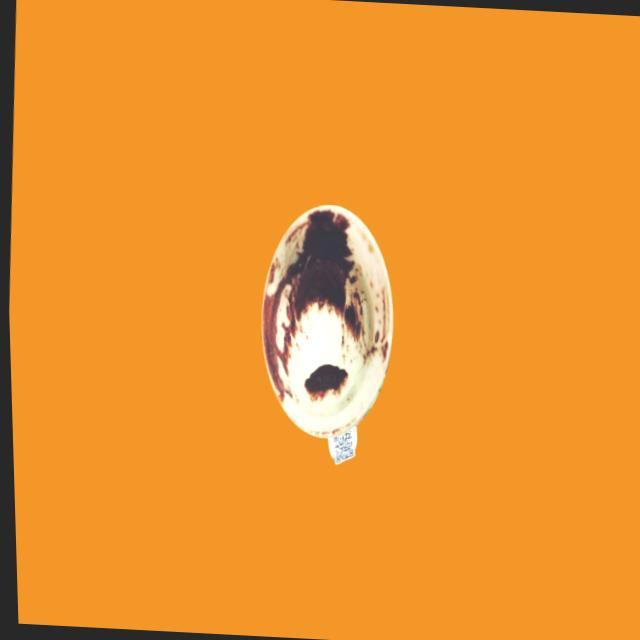cup: (248, 198, 402, 472)
